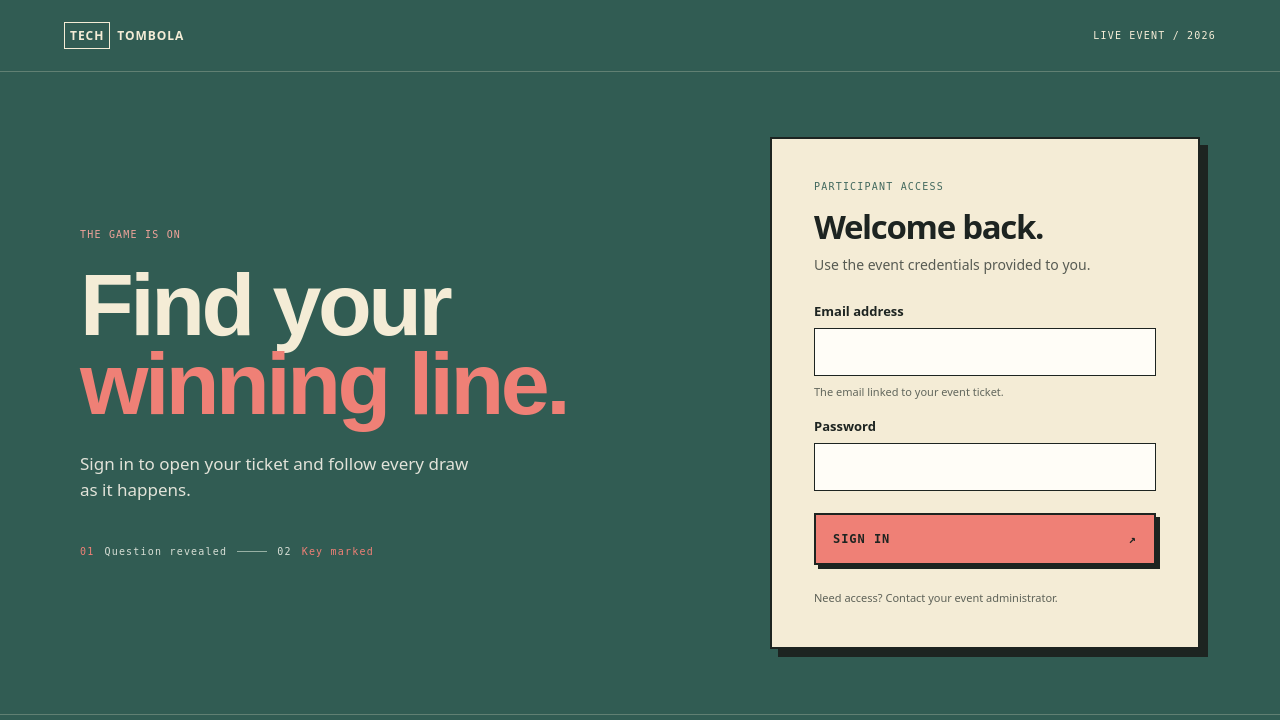
it: LoginPage › disables duplicate submit and shows rate-limit feedback
The width and height of the screenshot is (1280, 720).
Type "attendee@example.test" into the field labelled "Email address The email linked to your event ticket.". click: (985, 352)
box: [814,328,1156,376]
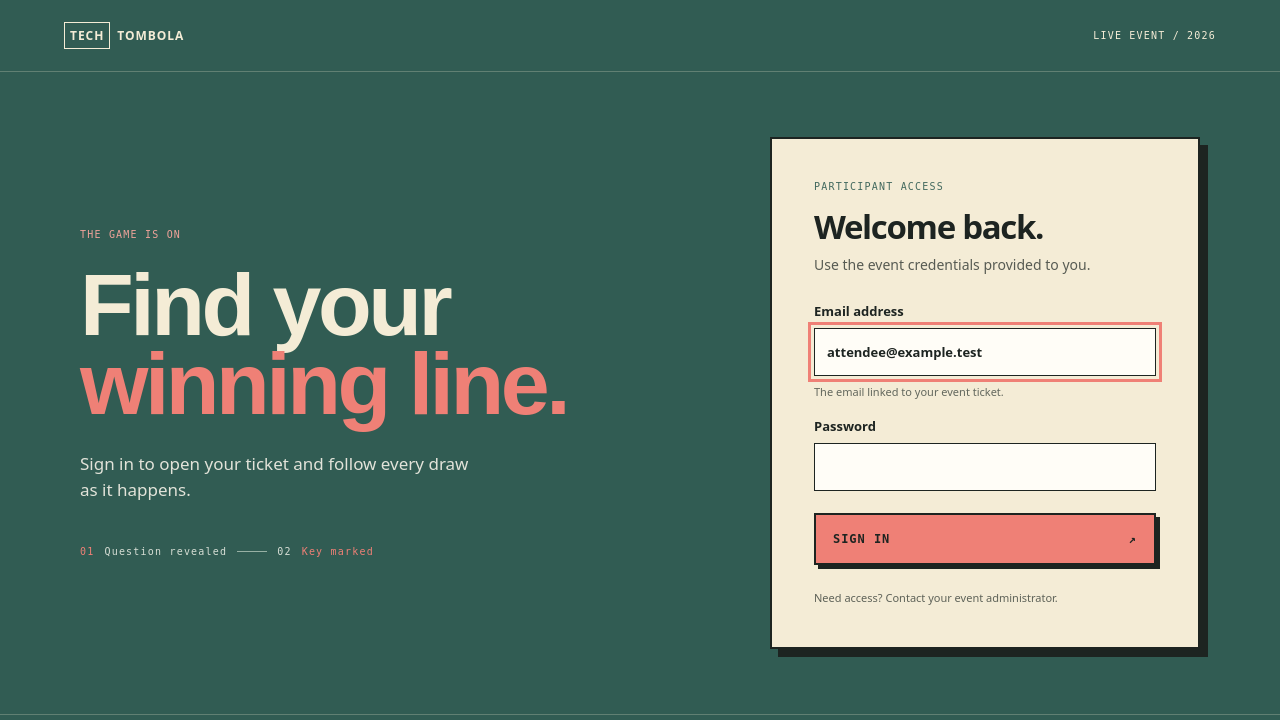
Type "correct horse battery" into the password field labelled "Password". click: (985, 467)
box: [814,443,1156,491]
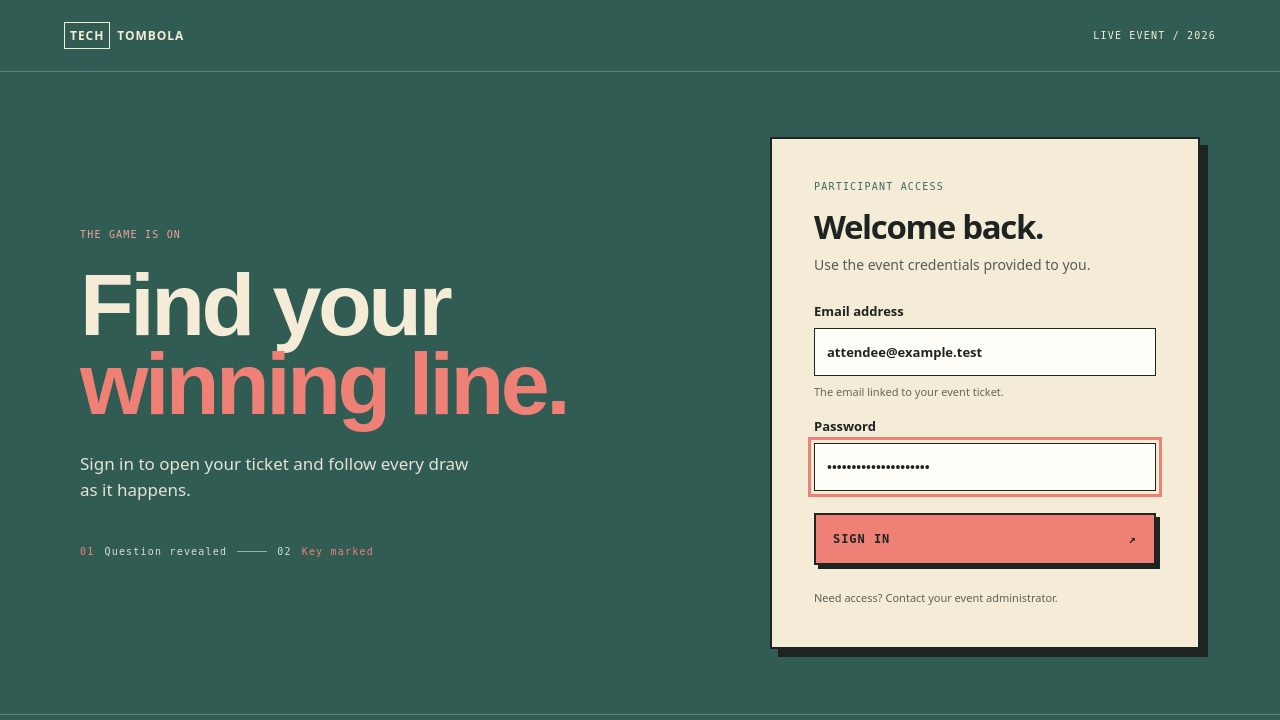
Click the button "SIGN IN ↗". click: (862, 539)
box: [814,513,1156,565]
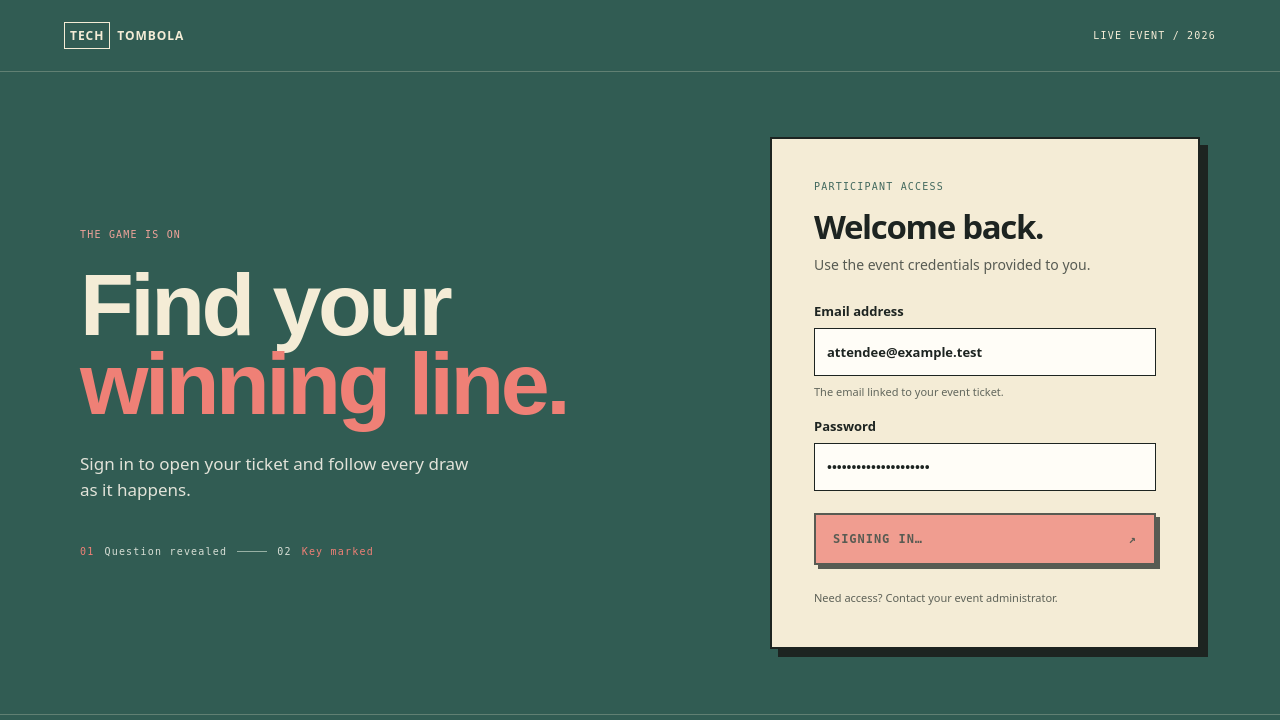
Check: the button "SIGNING IN… ↗" is disabled
Click the button "SIGNING IN… ↗". click: (878, 539)
box: [814,513,1156,565]
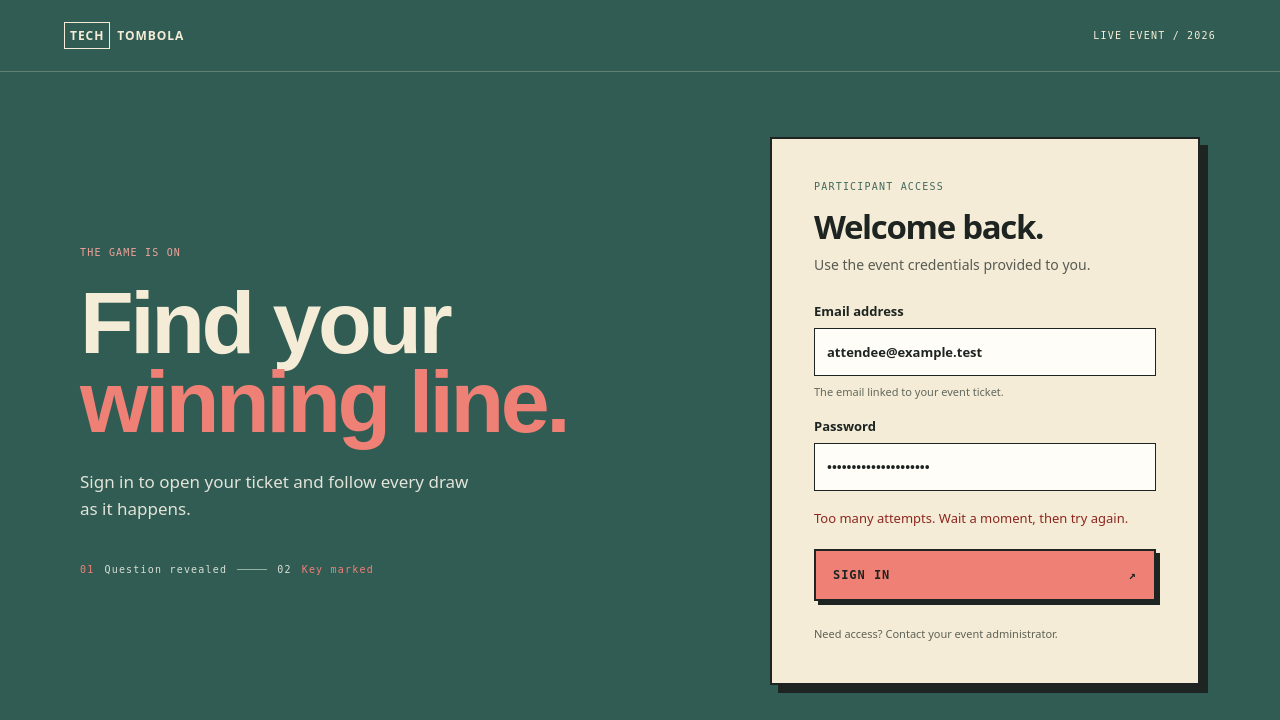
Check: the message shows "Too many attempts", box [814,509,1128,527]
